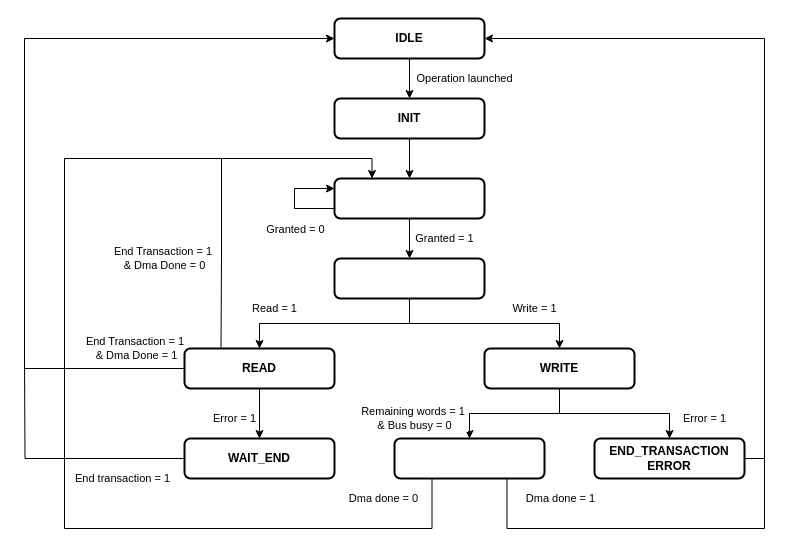
This 790x554 diagram has some shape labels left out. The box of each missing label's shape, as (x1, y1, x2, y2) in pixels:
END_WRITE TRANSACTION: (393, 437, 545, 479)
REQUEST_BUS: (333, 177, 485, 219)
SET_UP_TRANSACTION: (333, 257, 485, 299)
